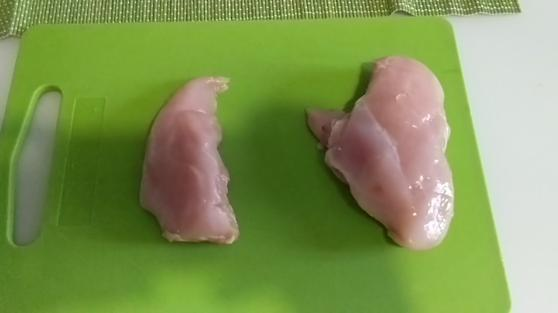chicken_fillet: (323, 53, 456, 247), (142, 76, 247, 249)
